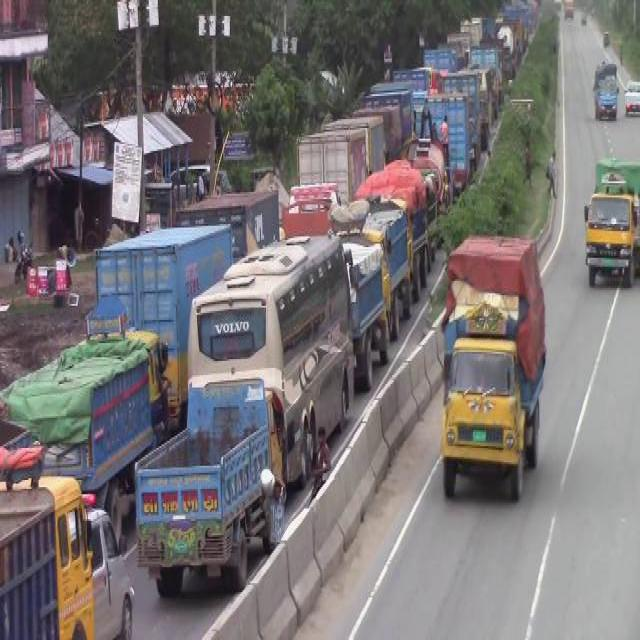TRUCK: (443, 330, 528, 498), (584, 195, 634, 286), (593, 64, 620, 120)
